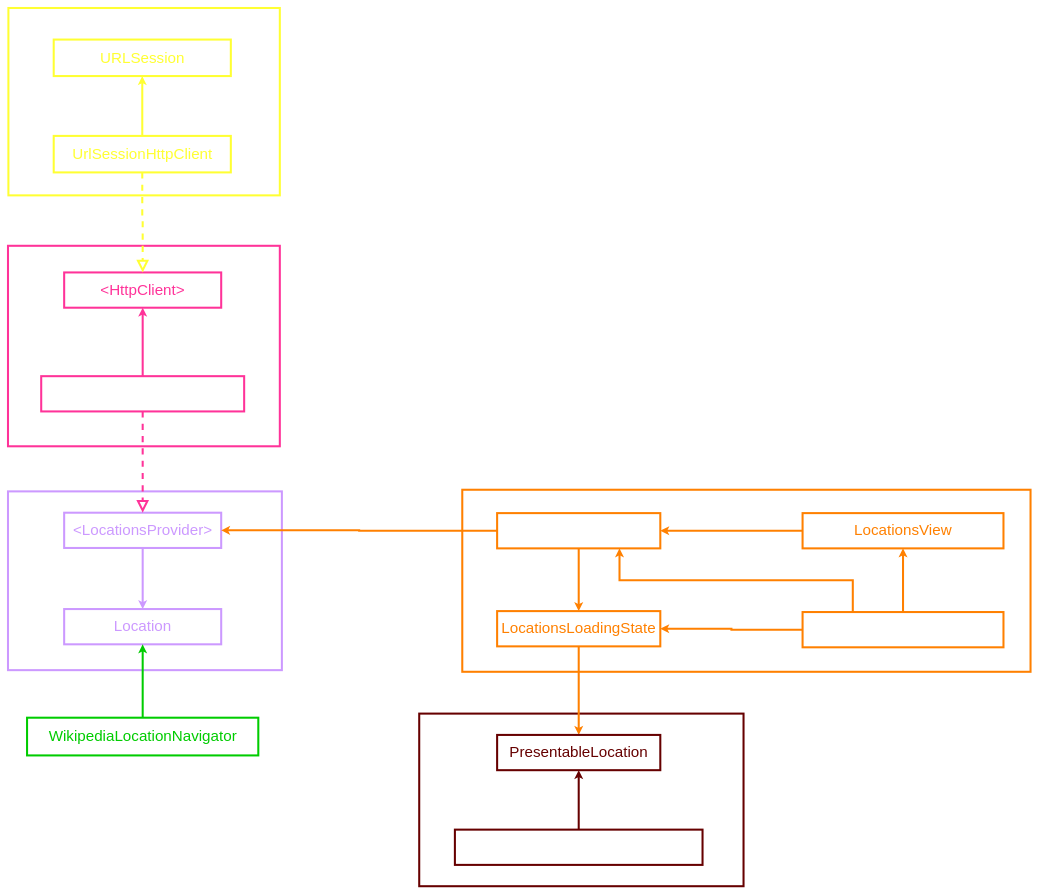
Image size: 1039x894. Some labels were removed from this diagram. Here are the shapes that lost their labels. From the top down, the centre of each, then its label:
[142,393]: RemoteLocationsProvider
[578,530]: LocationsViewModel
[902,629]: LocationsPresentingView
[578,847]: PresentableLocationMapper
